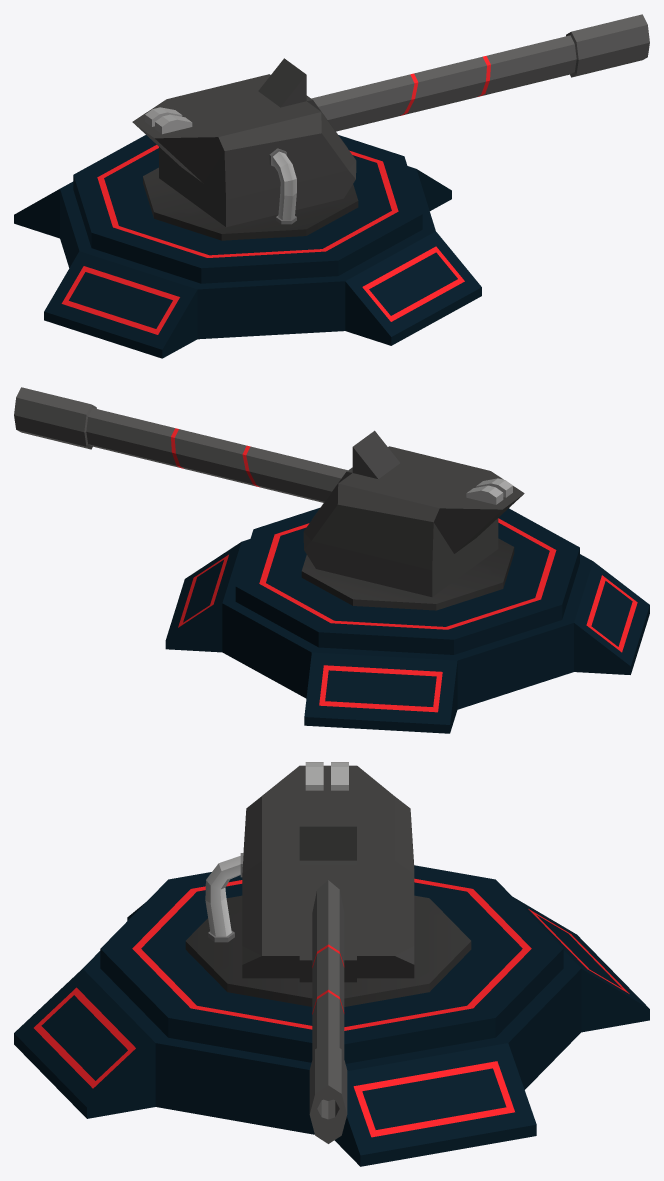
The model's file is torreta 1.fbx.
3 renders of one model, top to bottom at view 1: azimuth 30°, elevation 25°; view 2: azimuth 150°, elevation 25°; view 3: azimuth 270°, elevation 25°, orthographic. The views are drawn at different scales.
Parts seen in each view (by area): view 1: Torreta, Torreta.001; view 2: Torreta, Torreta.001; view 3: Torreta, Torreta.001.
Part boxes in pixels (x1,y1,x2,y2): Torreta: (14, 135, 481, 358); Torreta.001: (132, 14, 649, 240); Torreta: (165, 508, 649, 733); Torreta.001: (14, 387, 524, 610); Torreta: (14, 865, 649, 1166); Torreta.001: (185, 762, 471, 1143).
Size of the model in its own units: 1046 by 301 by 739.
